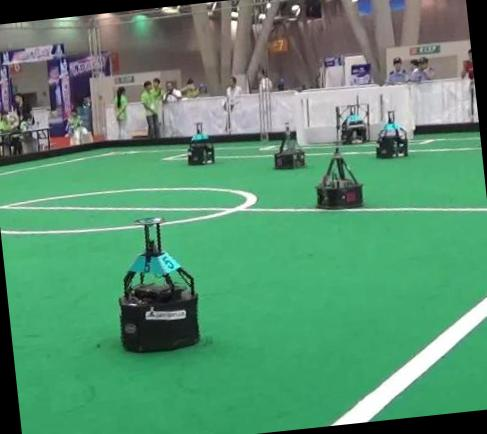goal: (294, 92, 308, 146), (402, 84, 414, 140)
robot: (119, 219, 198, 351), (315, 147, 362, 208), (336, 102, 371, 145), (376, 111, 407, 157), (274, 123, 304, 168), (188, 122, 215, 165)
